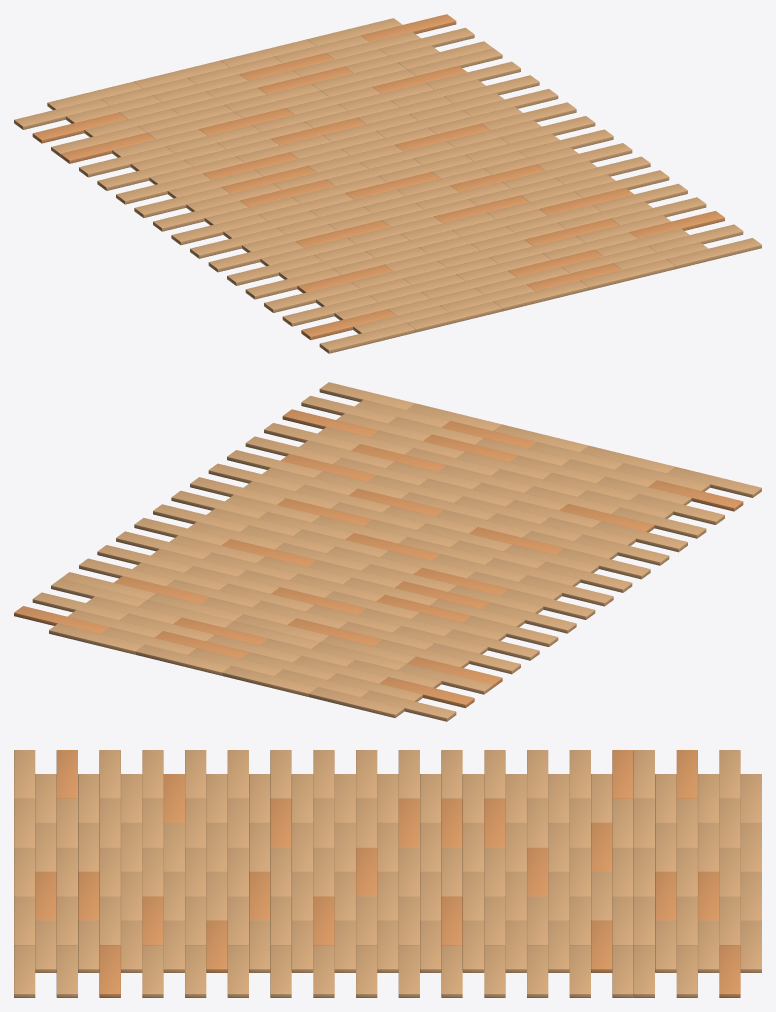
Rendered from New Wooden1.fbx.
3 renders of one model, top to bottom at view 1: azimuth 30°, elevation 25°; view 2: azimuth 150°, elevation 25°; view 3: azimuth 270°, elevation 25°, orthographic. The views are drawn at different scales.
Parts seen in each view (by area): view 1: Cube.026; view 2: Cube.026; view 3: Cube.026.
Boxes of the visible parts, bbox=[...] form: Cube.026: bbox=[14, 14, 761, 353]; Cube.026: bbox=[14, 382, 761, 721]; Cube.026: bbox=[14, 750, 761, 997].
Size of the model in its own units: 709 by 5.84 by 919.
